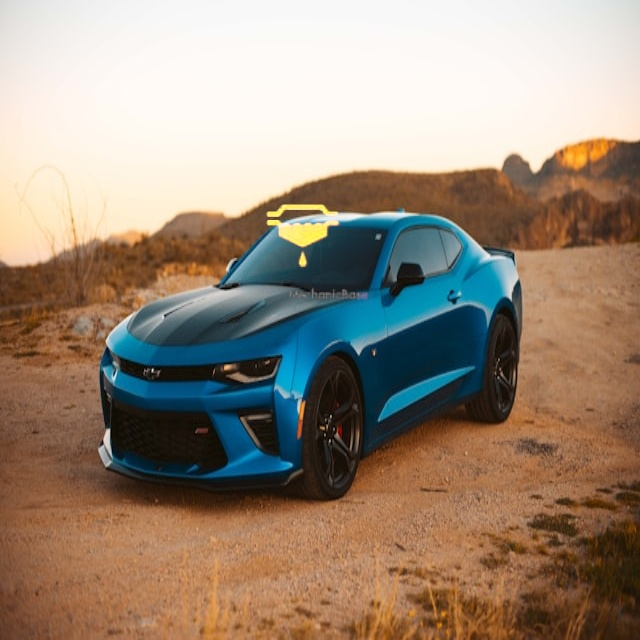symbol: (234, 167, 373, 306)
